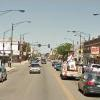Car: (27, 57, 44, 80)
